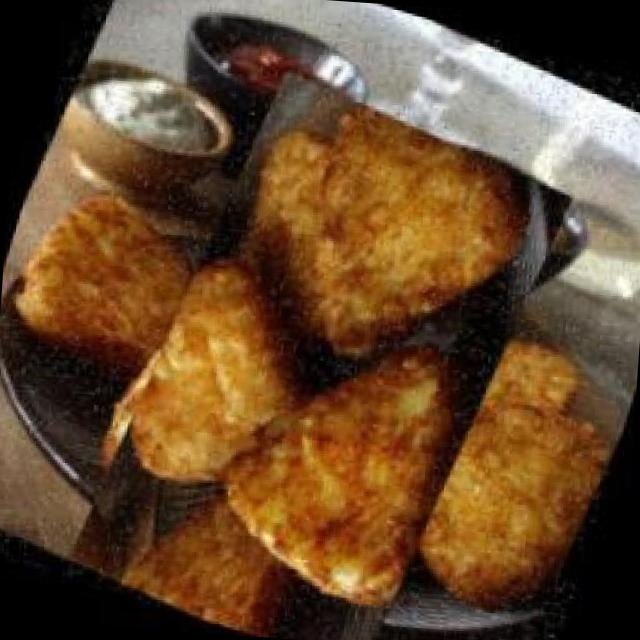triangle_hash_brown: (0, 77, 629, 640)
